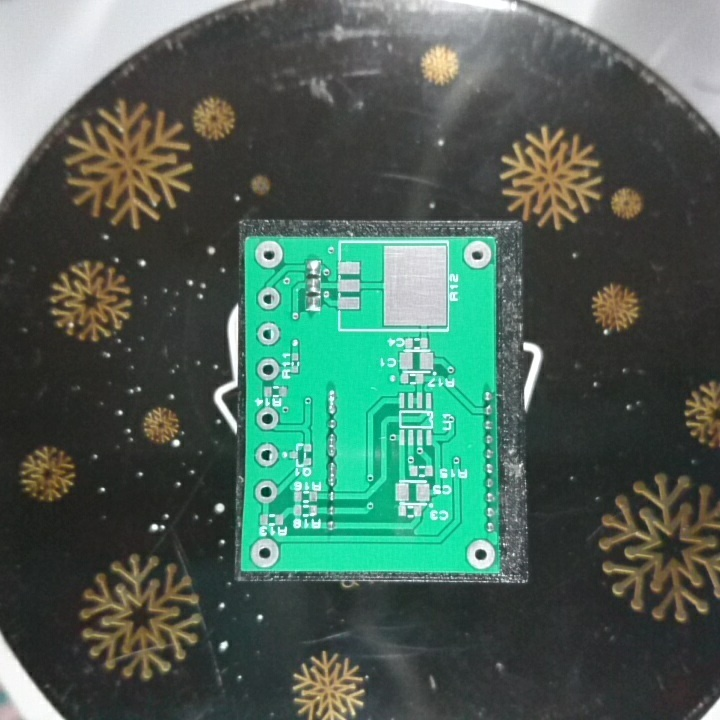F: (465, 538, 497, 572), (248, 536, 282, 567), (252, 240, 285, 270), (460, 239, 493, 269), (252, 478, 280, 506), (255, 320, 284, 347), (254, 442, 282, 469), (255, 285, 282, 312), (254, 405, 281, 431), (255, 357, 282, 382)
P: (325, 387, 340, 417), (324, 432, 340, 460), (324, 459, 339, 488)
